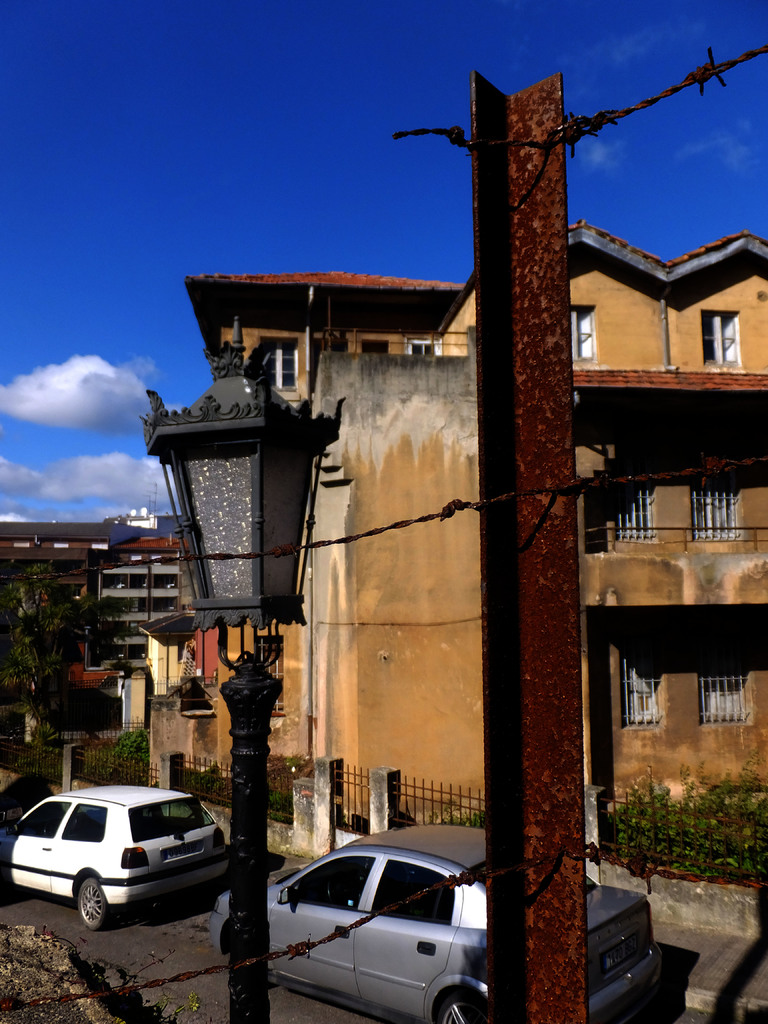Car: (207, 823, 669, 1023), (0, 781, 227, 935)
